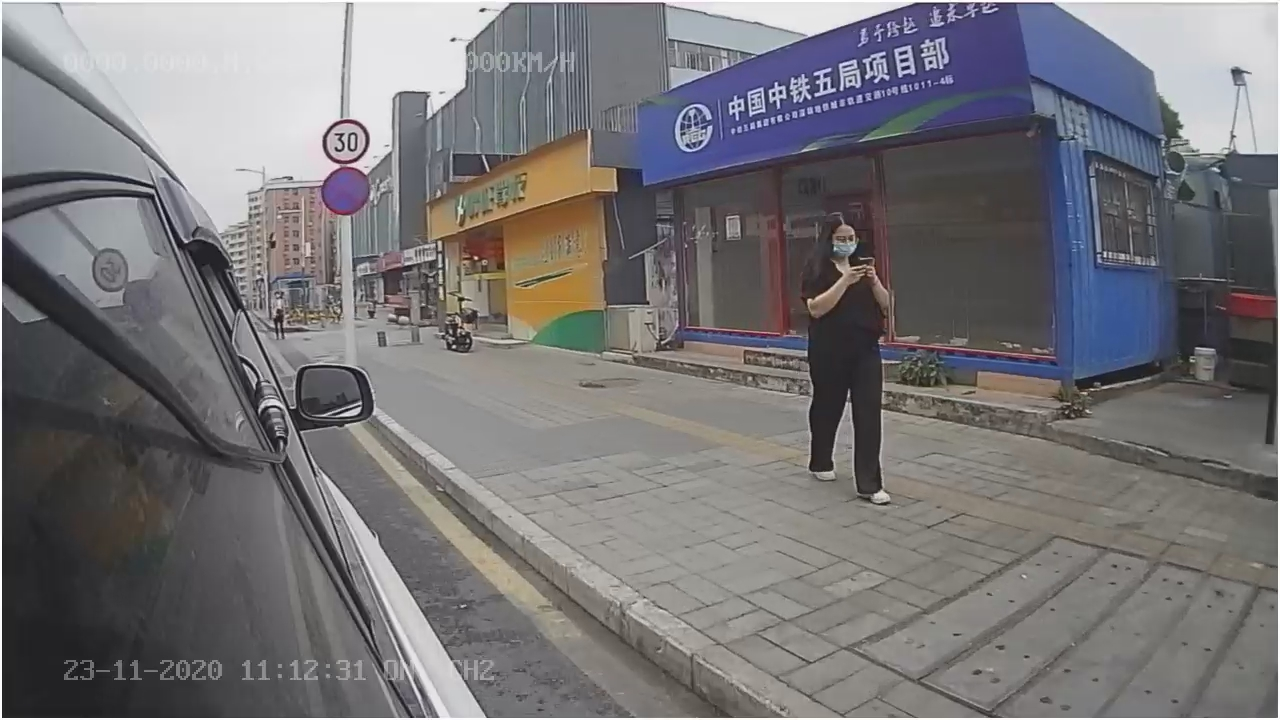person: (790, 216, 901, 509)
